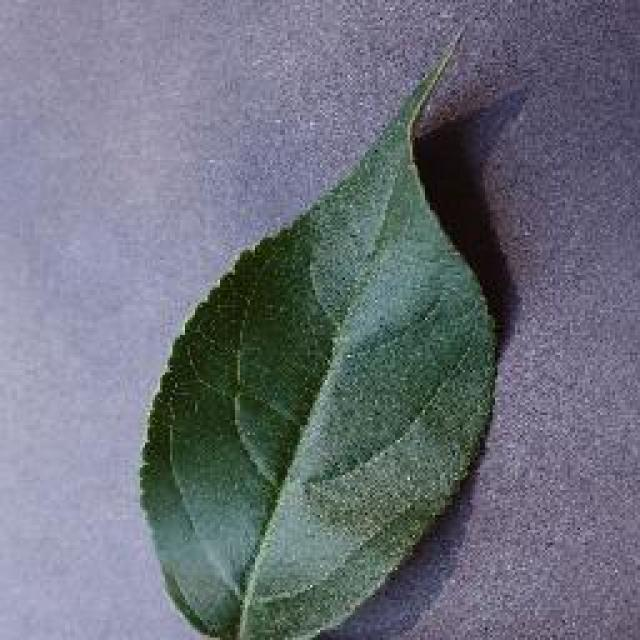apple healthy: (135, 25, 505, 637)
